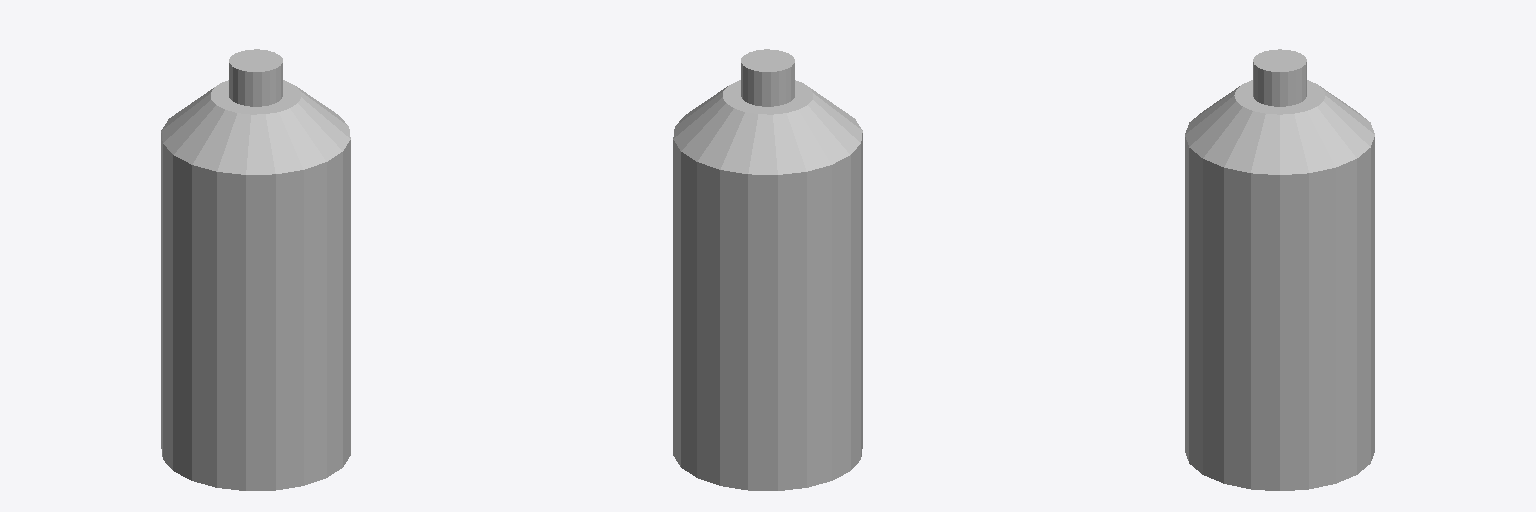
Rendered from Bat.obj.
3 views of the same model, side by side, from view 1: azimuth 30°, elevation 25°; view 2: azimuth 150°, elevation 25°; view 3: azimuth 270°, elevation 25° (orthographic).
Visible parts, largest first — view 1: pCylinder1; view 2: pCylinder1; view 3: pCylinder1.
Boxes of the visible parts, box(x1,y1,x2,y2) form: pCylinder1: box(161, 49, 350, 490); pCylinder1: box(673, 49, 862, 490); pCylinder1: box(1185, 49, 1374, 490).
Bounding box in the file's own units: 0.9413 × 2.13 × 0.9413.